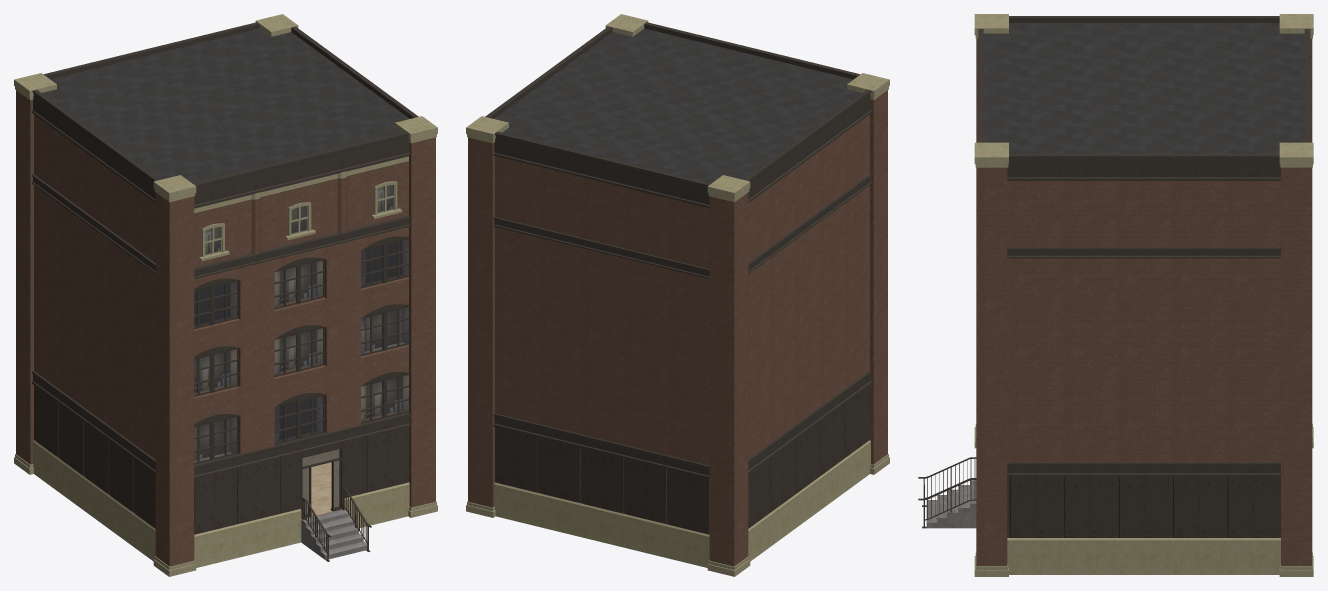
Rendered from CityCorner.glb.
3 renders of one model, left to right at view 1: azimuth 30°, elevation 25°; view 2: azimuth 150°, elevation 25°; view 3: azimuth 270°, elevation 25°, orthographic. The views are drawn at different scales.
Visible parts, largest first — view 1: Building_Small_1; view 2: Building_Small_1; view 3: Building_Small_1.
Boxes of the visible parts, x1,y1,x2,y2 form: Building_Small_1: (14,14,437,576); Building_Small_1: (466,14,889,576); Building_Small_1: (918,14,1313,576).
Bounding box in the file's own units: 12.46 × 17.03 × 14.54.
13 materials, 12 textured.
